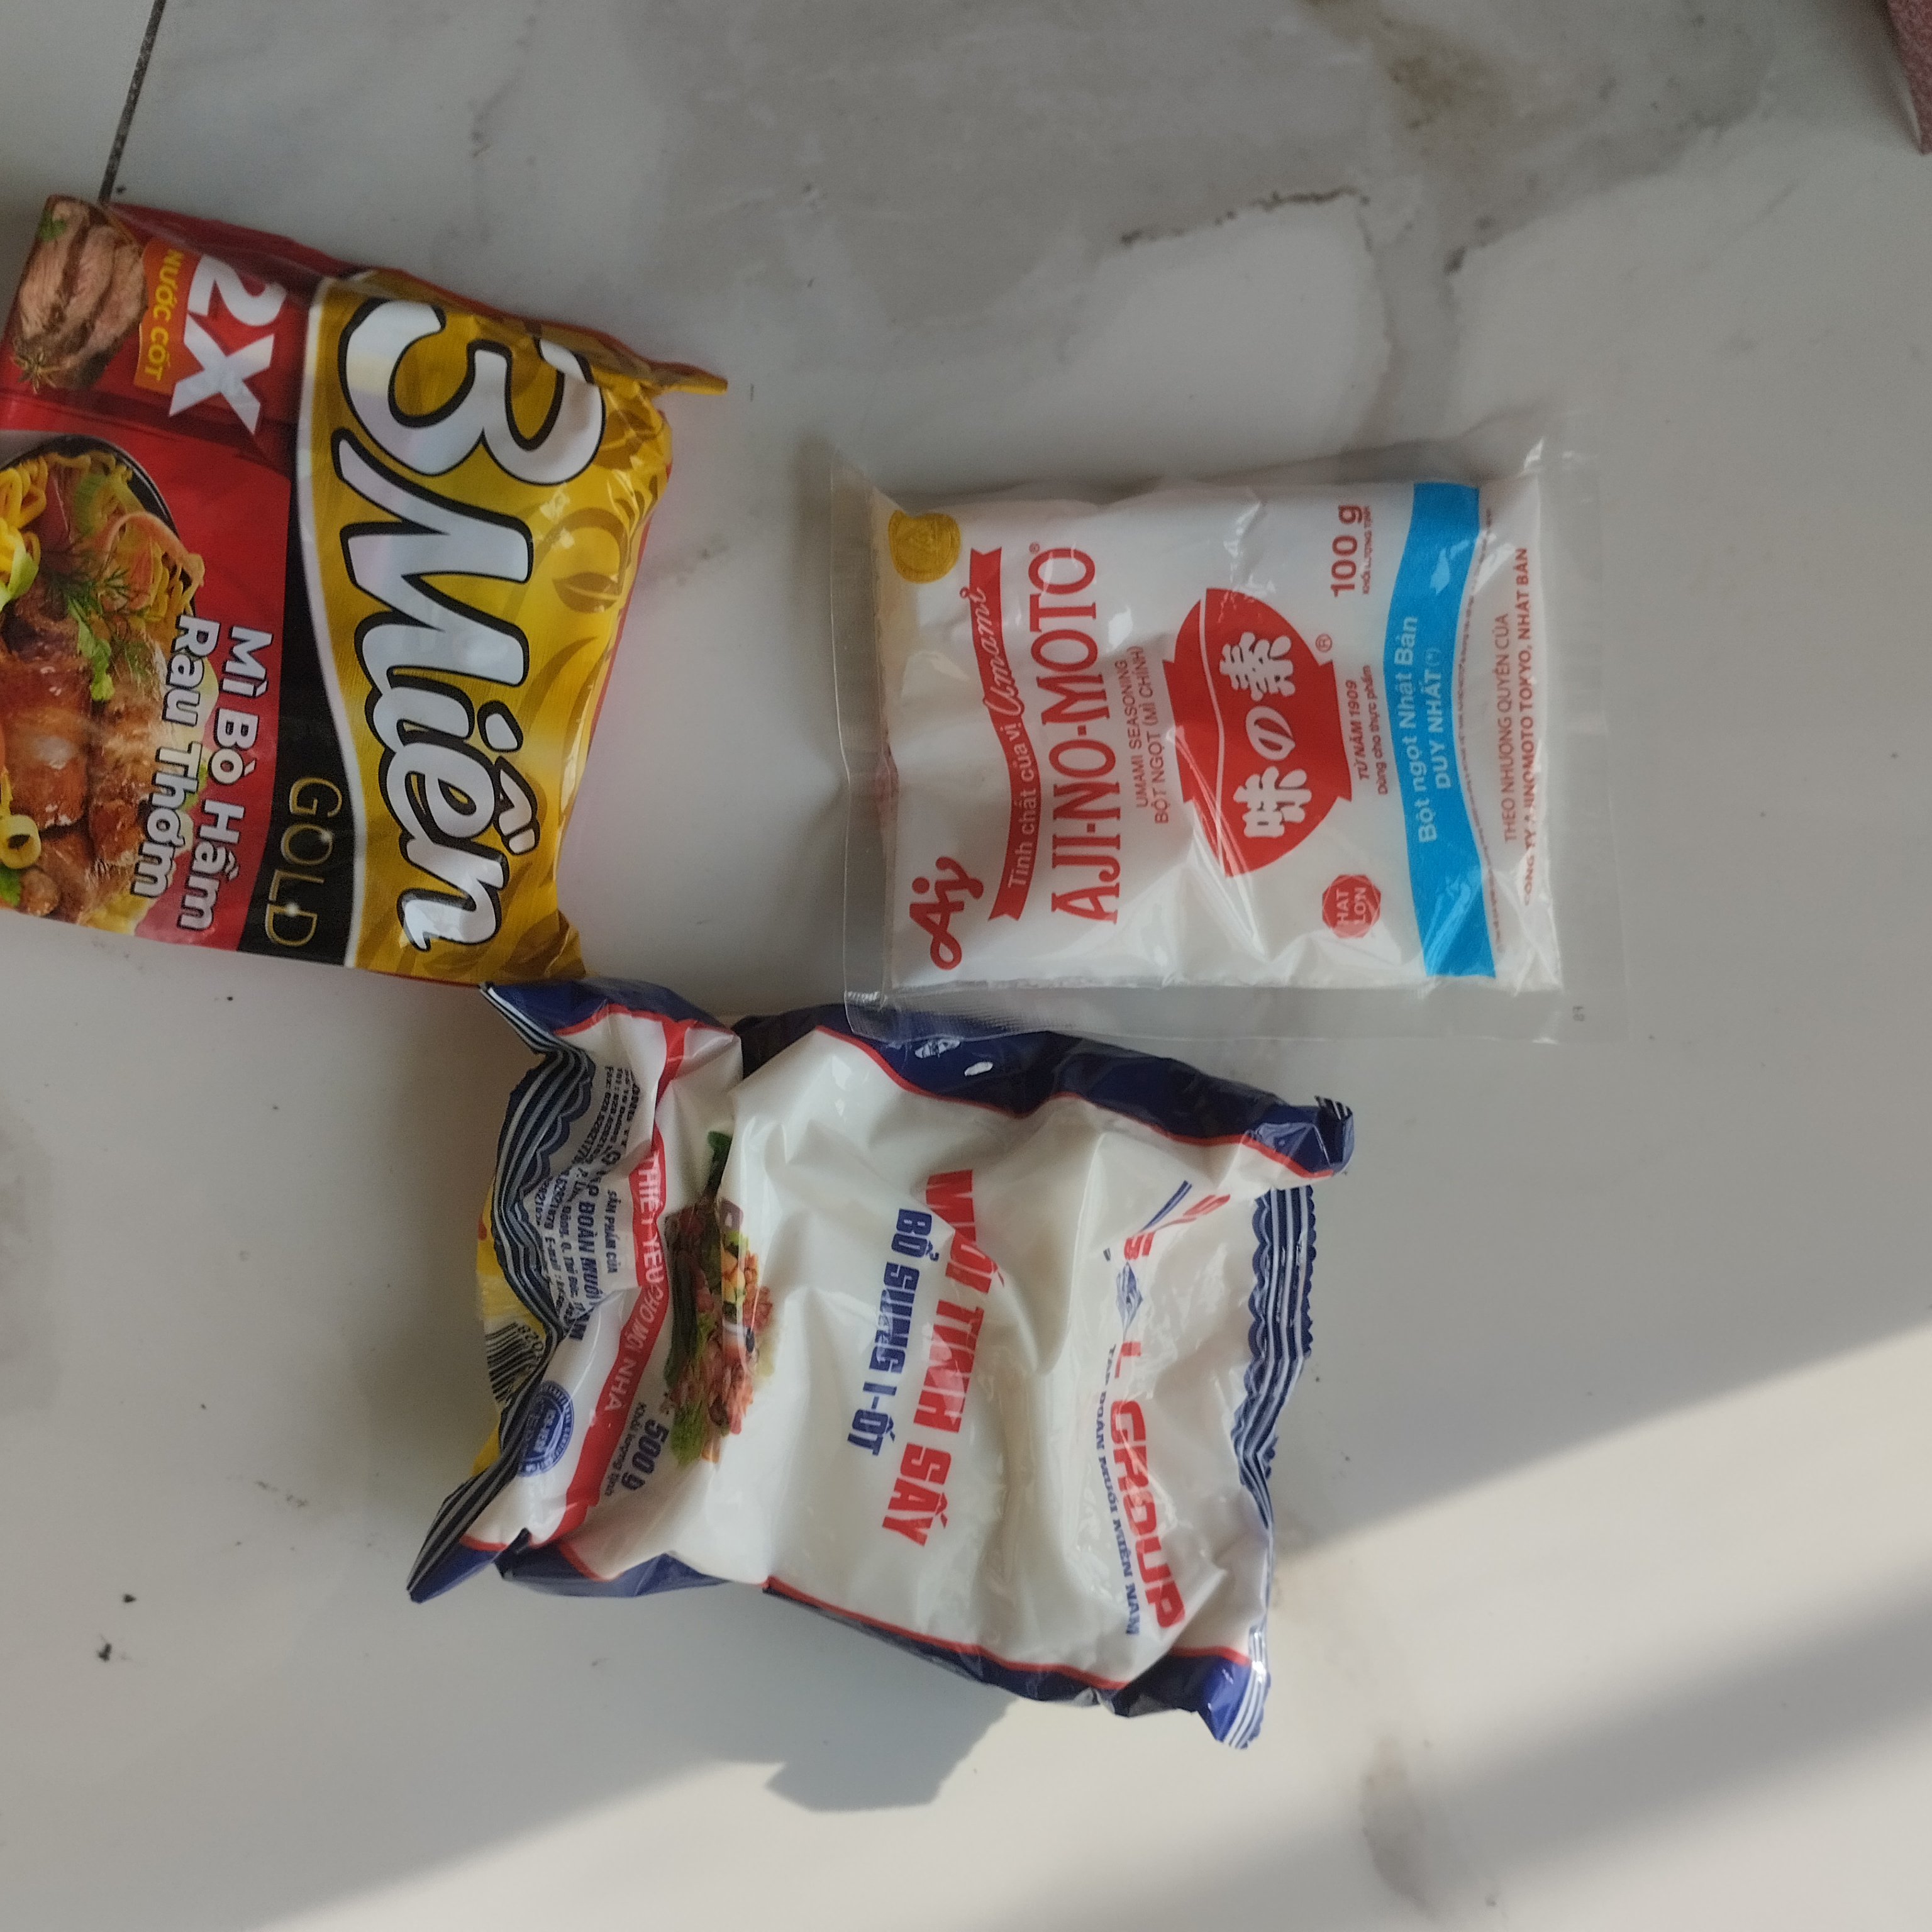3mien: (0, 179, 729, 993)
Ajinomoto: (814, 377, 1615, 1053)
Salt: (400, 968, 1380, 1753)
